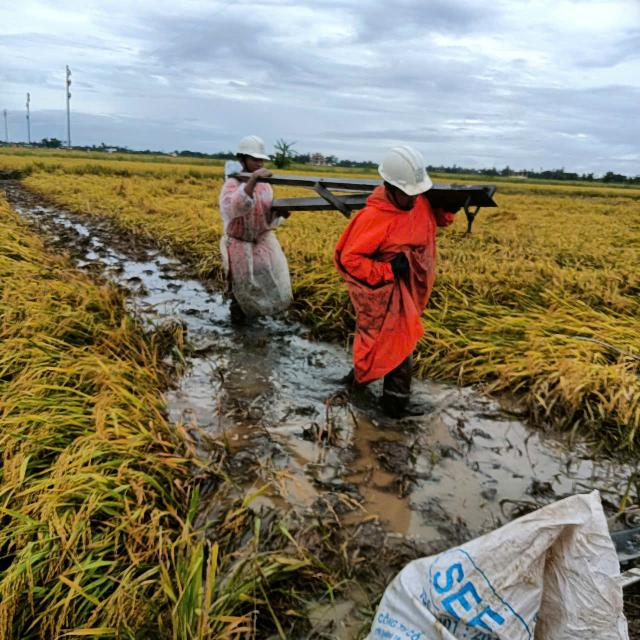gloves: (242, 167, 277, 198), (387, 248, 413, 278), (271, 208, 291, 220)
helmet: (369, 135, 438, 202), (239, 132, 272, 163)
